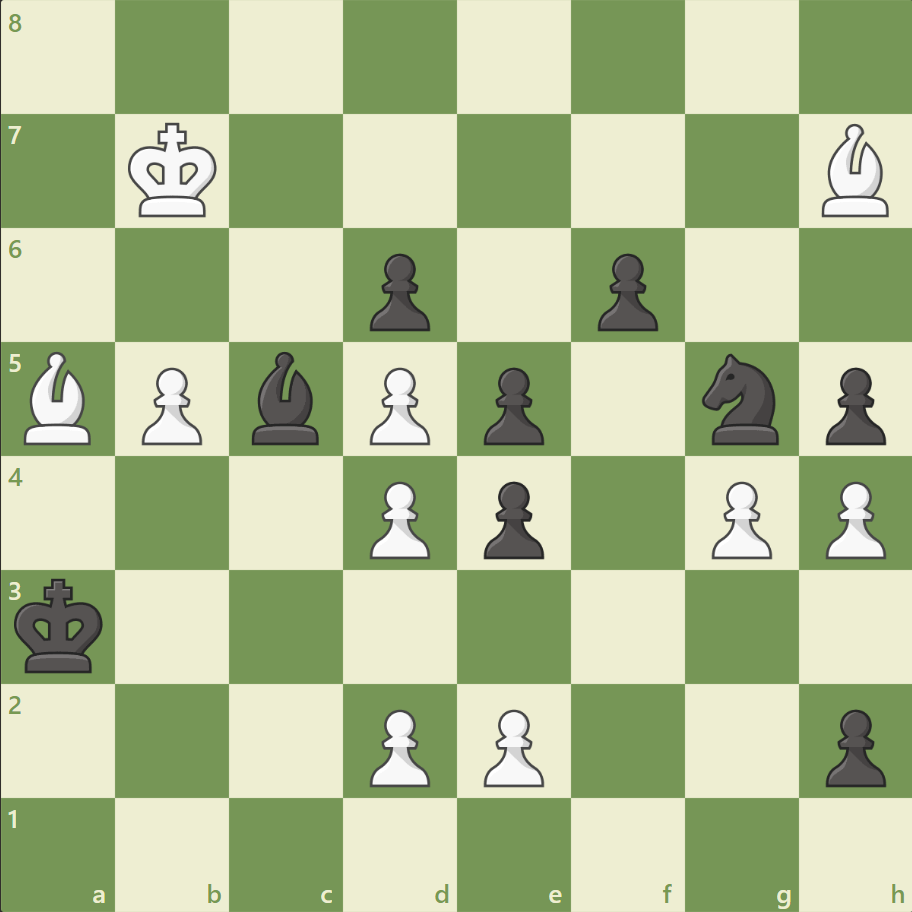B: (812, 120, 896, 222), (17, 347, 101, 449)
K: (124, 117, 224, 225)
P: (133, 359, 208, 450), (701, 473, 776, 564), (474, 700, 549, 791), (361, 359, 435, 450), (361, 473, 435, 564), (815, 473, 889, 564), (361, 700, 435, 791)
b: (244, 347, 328, 449)
k: (11, 571, 111, 679)
n: (692, 348, 789, 450)
p: (474, 359, 549, 450), (474, 473, 549, 564), (361, 246, 435, 337), (588, 246, 662, 337), (815, 359, 889, 450), (815, 700, 889, 791)
